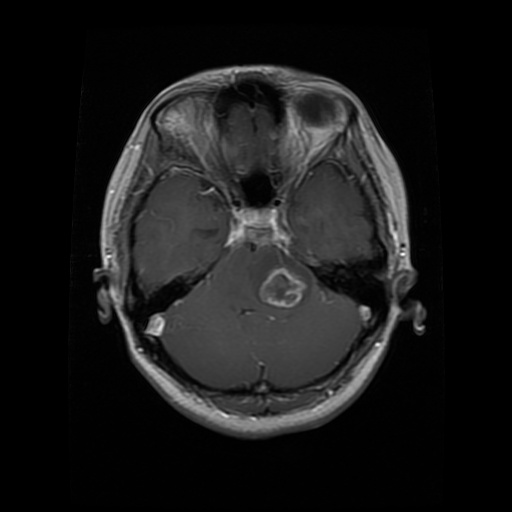glioma: (257, 268, 307, 311)
